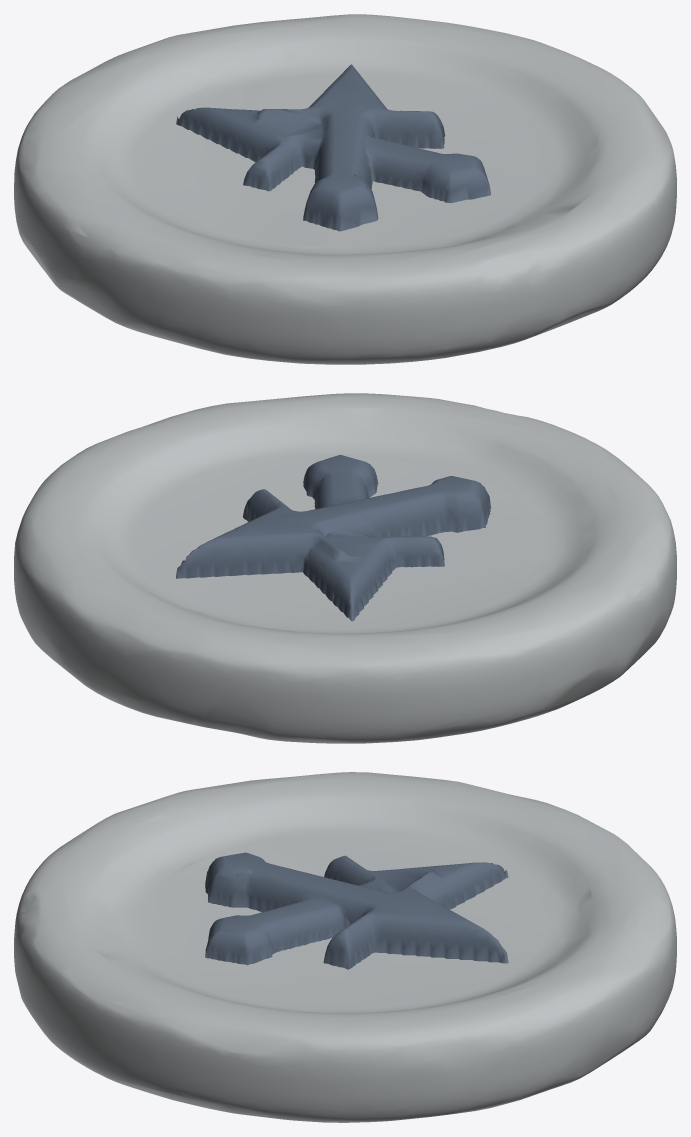
Rendered from token-rogue-blue.glb.
3 views of the same model, one above another, from view 1: azimuth 30°, elevation 25°; view 2: azimuth 150°, elevation 25°; view 3: azimuth 270°, elevation 25° (orthographic).
Parts seen in each view (by area): view 1: token_rogue_blue; view 2: token_rogue_blue; view 3: token_rogue_blue.
Boxes of the visible parts, left/top/right/bottom form: token_rogue_blue: left=14, top=14, right=676, bottom=364; token_rogue_blue: left=14, top=393, right=676, bottom=743; token_rogue_blue: left=14, top=772, right=676, bottom=1122.
Size of the model in its own units: 0.4139 by 0.072 by 0.414.
